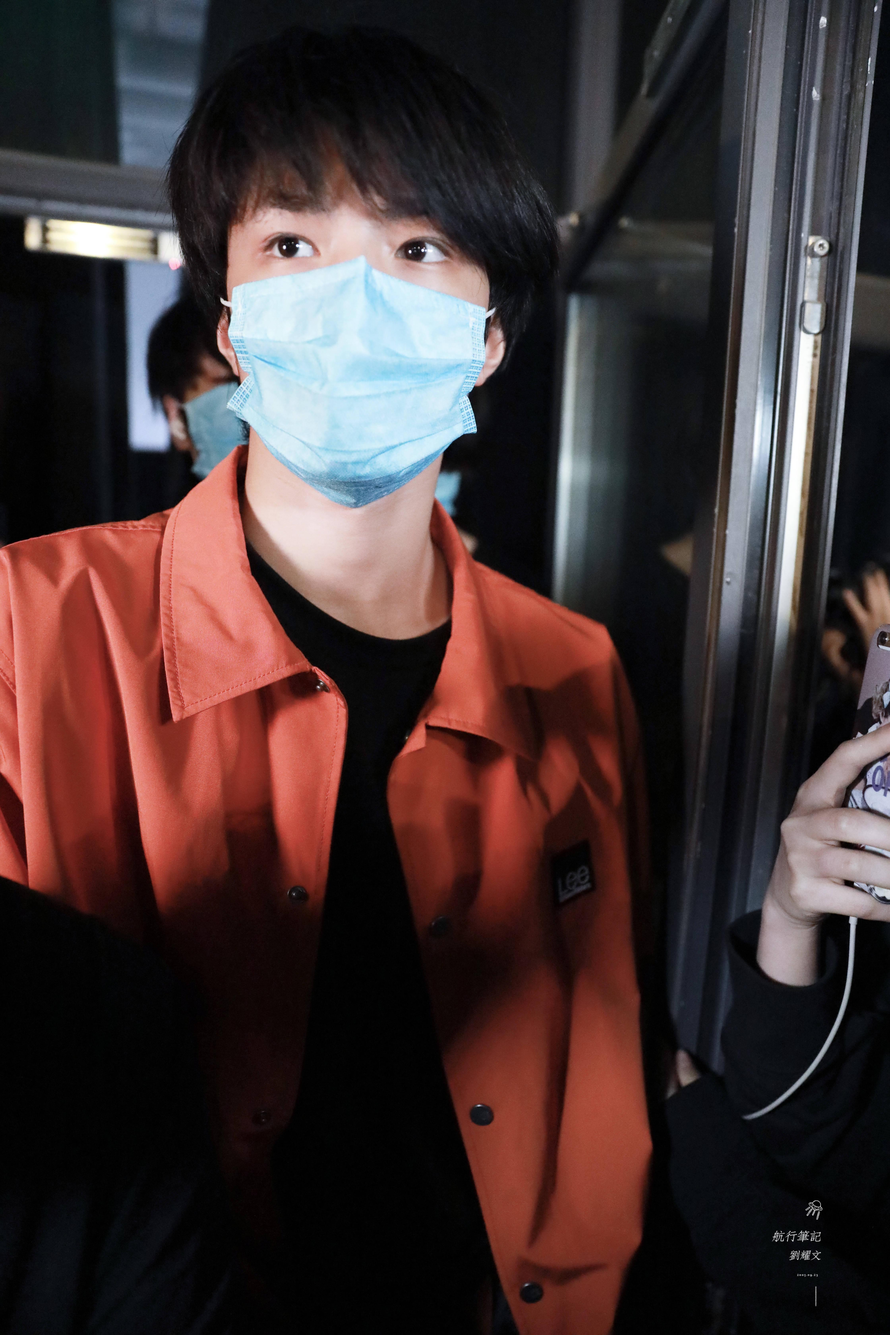OK: (228, 172, 482, 494)
